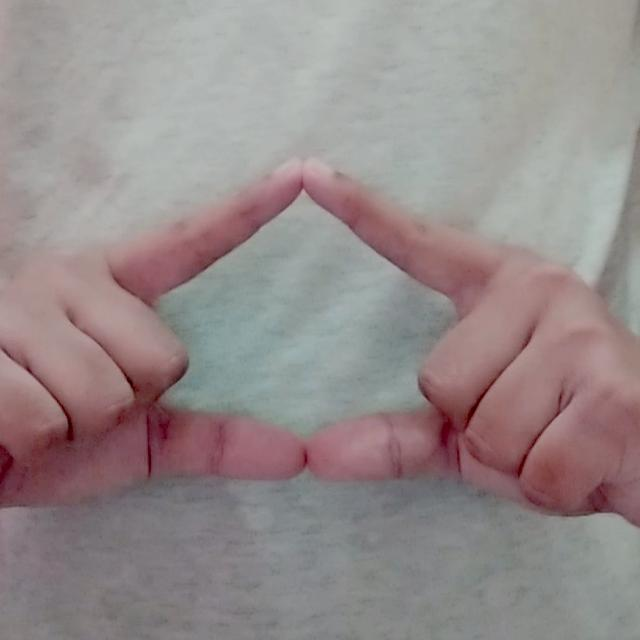A: (16, 149, 626, 523)
